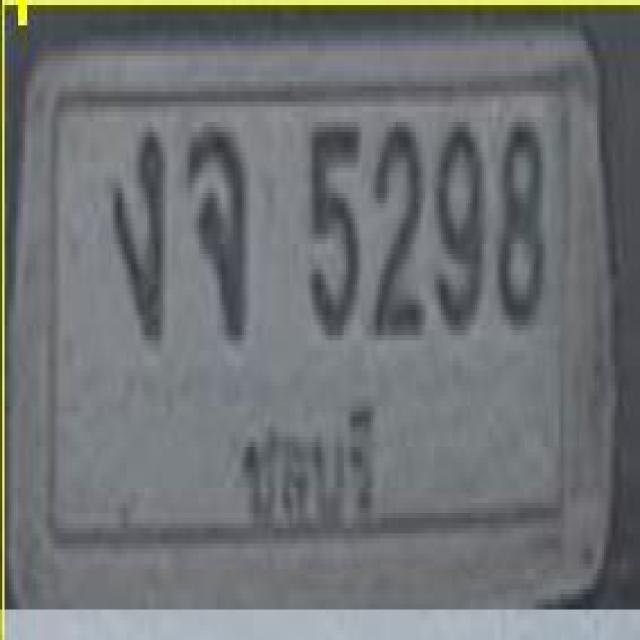license_plate: (18, 46, 616, 602)
